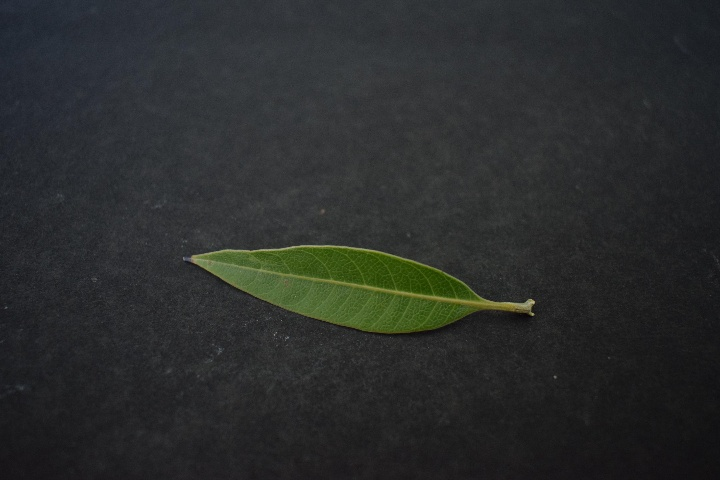healthy: (197, 230, 475, 345)
